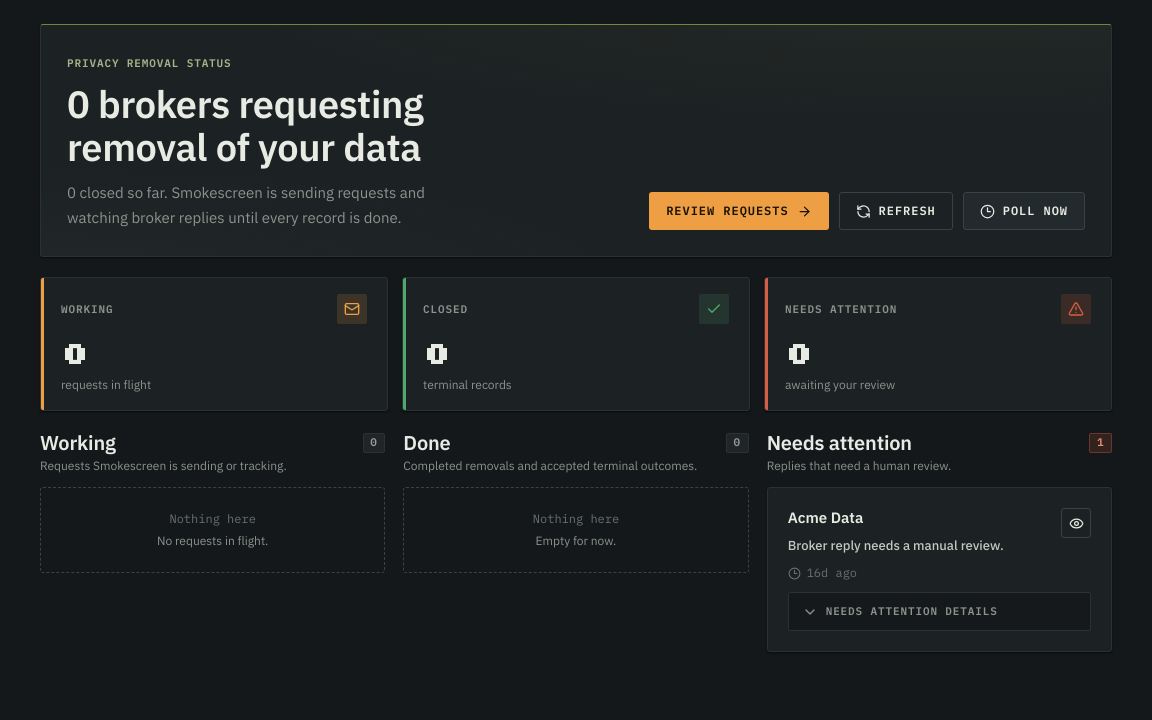
Test: OverviewPage › keeps overview broker reply excerpts in expanded details
This screenshot has width=1152, height=720.
Expected: the text "Broker reply needs a manual review." is shown, x1=788 y1=535 x2=1004 y2=556
Expected: the text "Broker-only latest reply excerpt." is not shown
What coordinates should you click on to do the following:
click the heading "Needs Attention Details"
I would click on:
 (900, 612)
Its box is x1=802 y1=604 x2=998 y2=620.
(page scrolled)
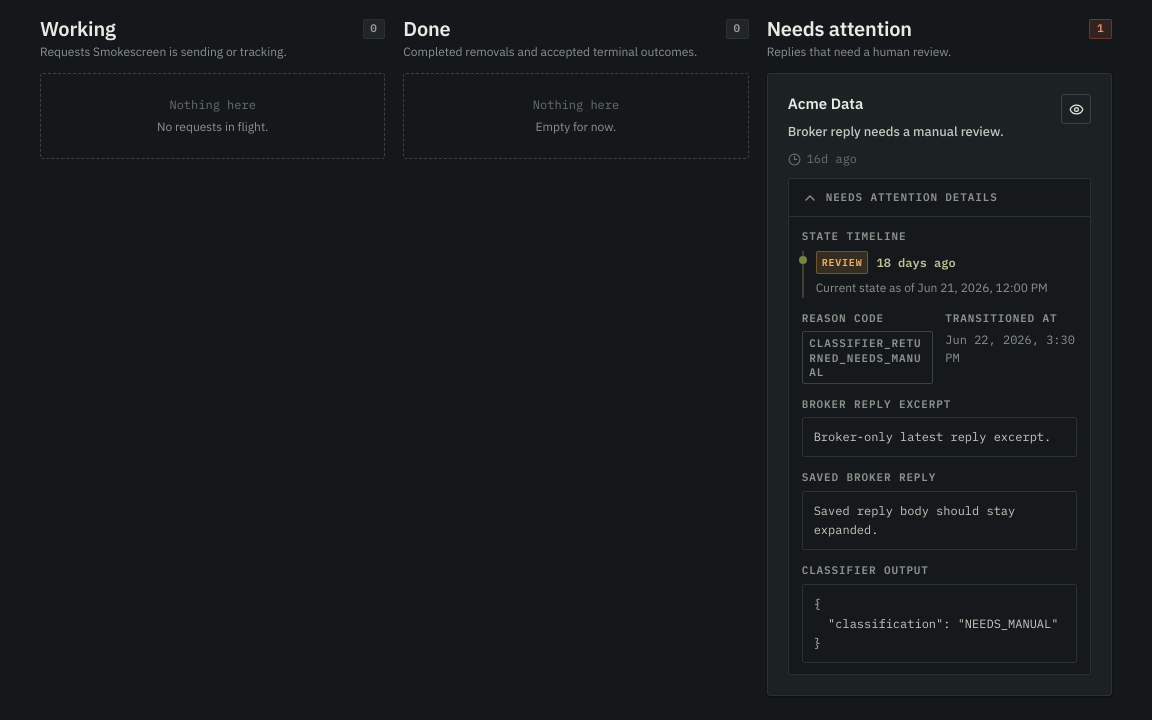
Expected: the text "Broker-only latest reply excerpt." is shown, x1=802 y1=417 x2=1077 y2=457
